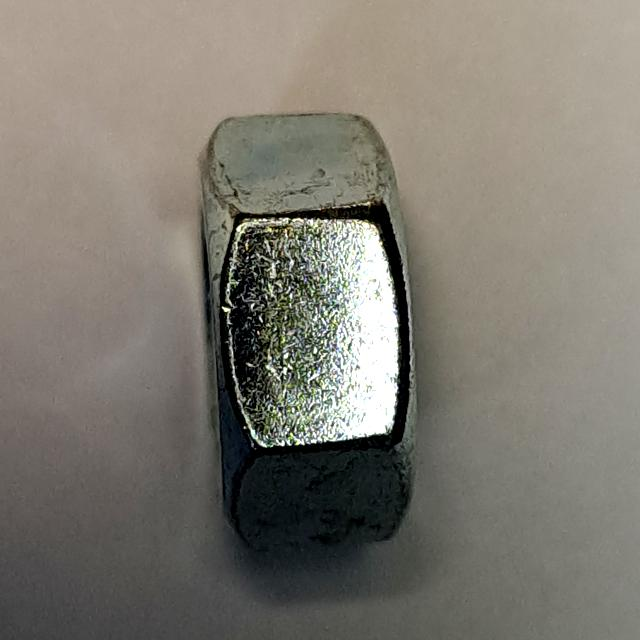Side_Excellent: (179, 98, 438, 576)
